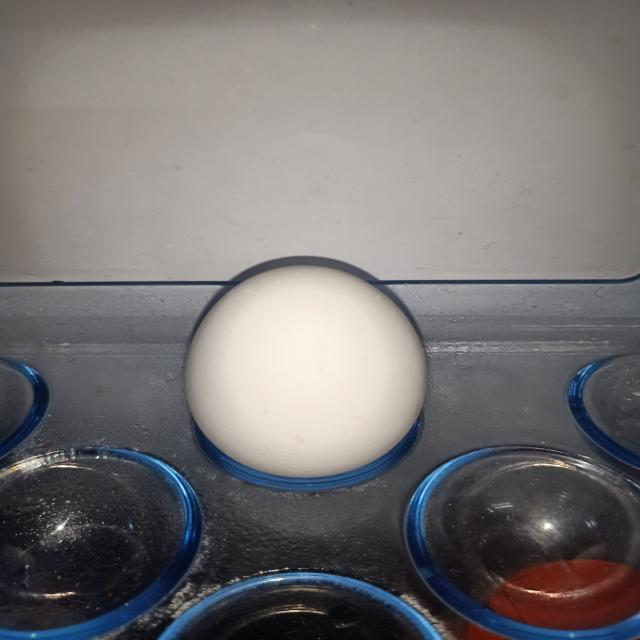Egg: (167, 245, 473, 490)
